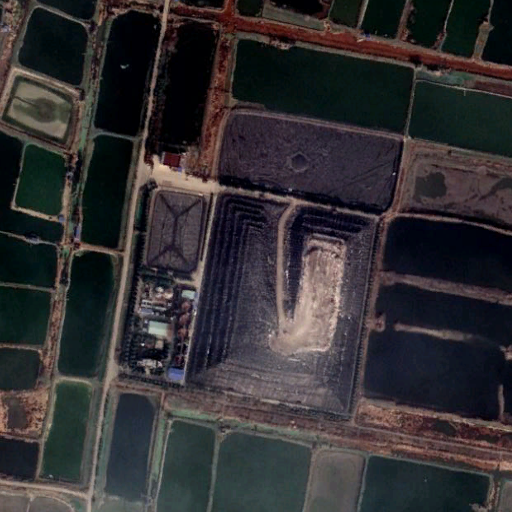lf: (186, 194, 379, 423)
